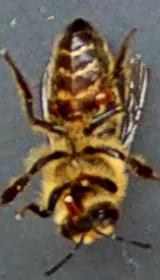varroa_mite: (89, 88, 128, 112), (42, 92, 66, 120)
